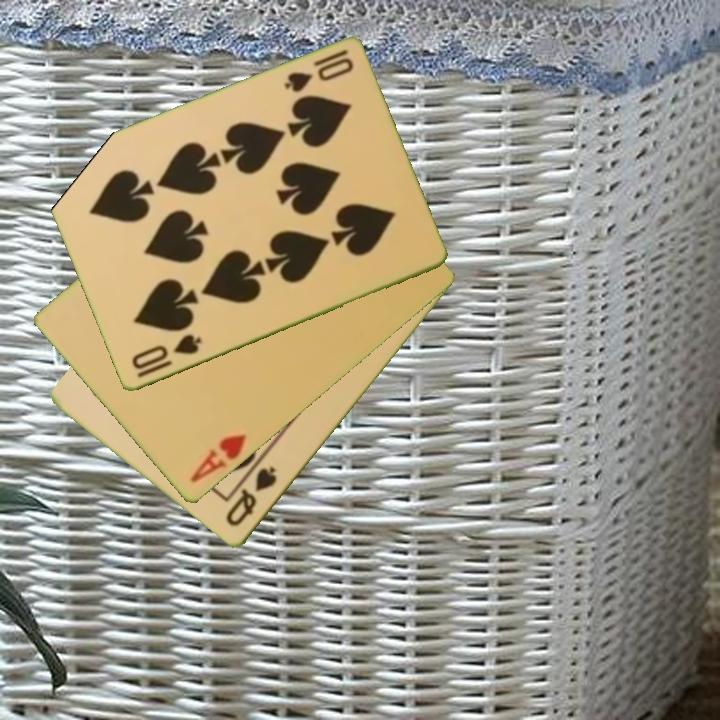10s: (280, 46, 357, 96), (128, 331, 205, 373)
Ah: (187, 431, 249, 487)
Qs: (222, 463, 280, 530)
